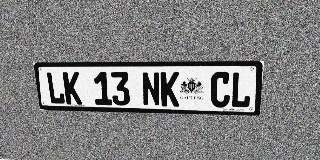1: (93, 72, 112, 105)
3: (111, 72, 130, 106)
C: (210, 72, 231, 108)
K: (160, 72, 179, 107), (62, 72, 82, 105)
L: (230, 72, 252, 108), (46, 72, 66, 104)
N: (141, 72, 160, 106)
